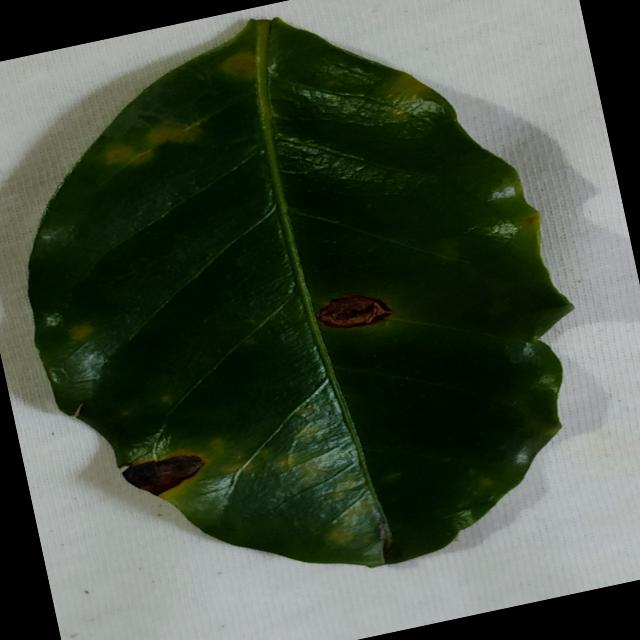KaratDaunKopi: (122, 455, 204, 495), (317, 295, 392, 327), (382, 72, 435, 109), (146, 123, 201, 145), (220, 52, 254, 80), (105, 145, 136, 164), (453, 509, 476, 529), (130, 148, 154, 165), (69, 323, 93, 340), (329, 529, 353, 544), (296, 405, 316, 415), (211, 438, 223, 447)
